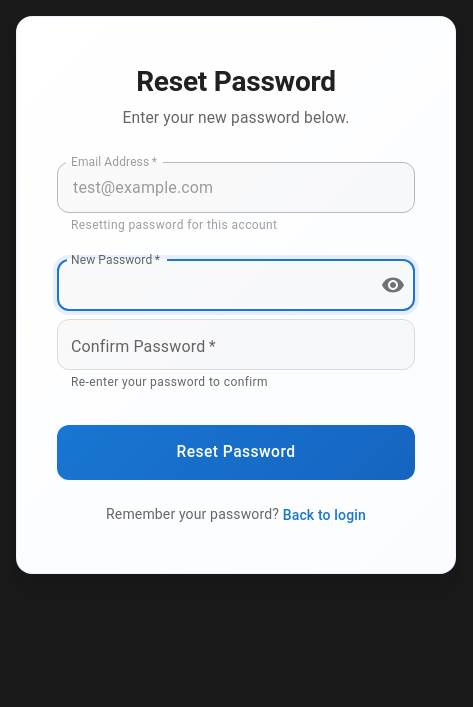
Test: PasswordResetConfirmForm › form validation › should show error for weak password (score < 3)
The width and height of the screenshot is (473, 707).
In the password field labelled "New Password *": (211,285) [57, 260, 365, 311], type "weakpassword"
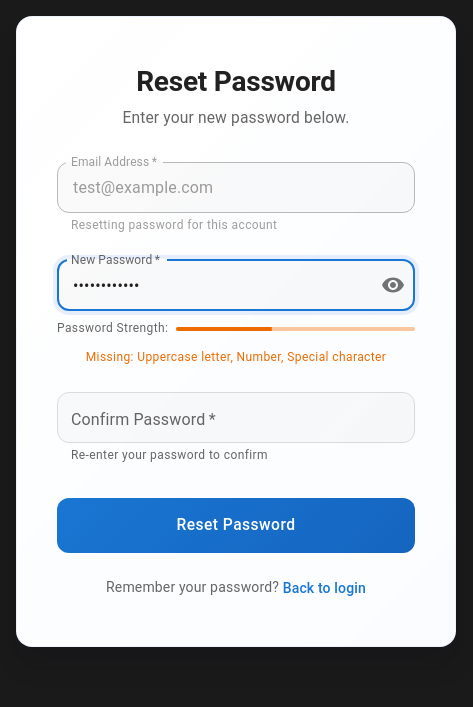
In the password field labelled "Confirm Password *": (236,417) [57, 392, 415, 443], type "weakpassword"
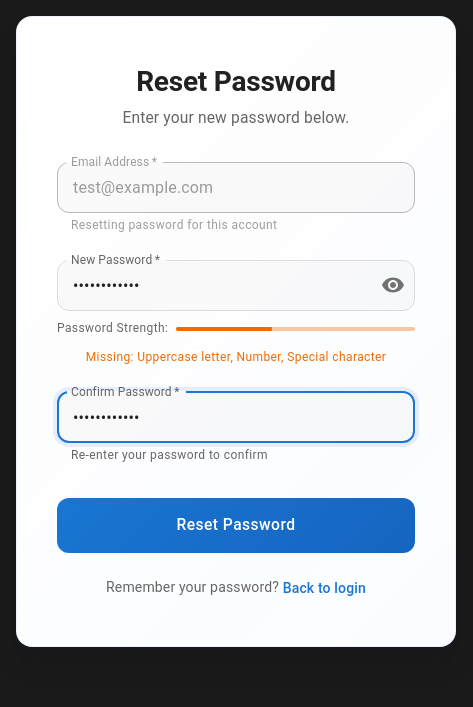
Click the button "Reset Password": (236,525) [57, 498, 415, 553]
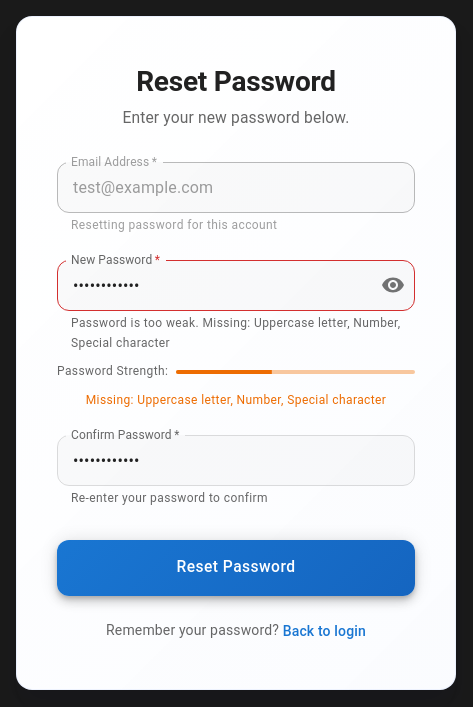
Now the text "Password is too weak" is shown, box [71, 316, 401, 350]
